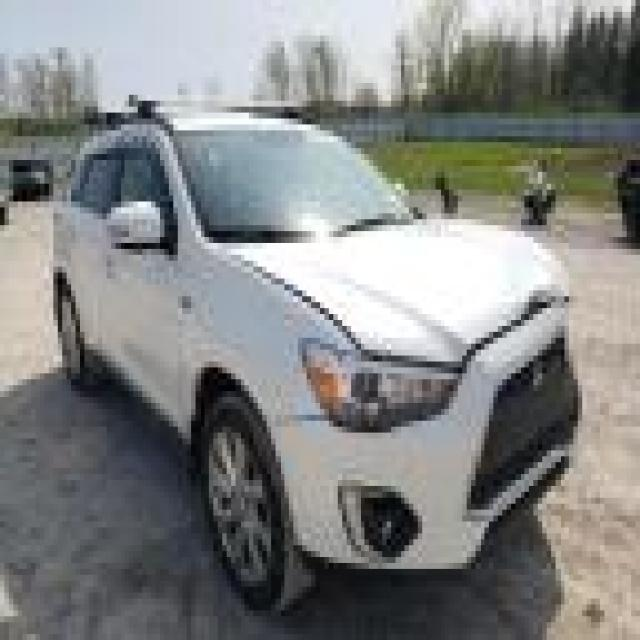minor: (505, 257, 582, 348)
